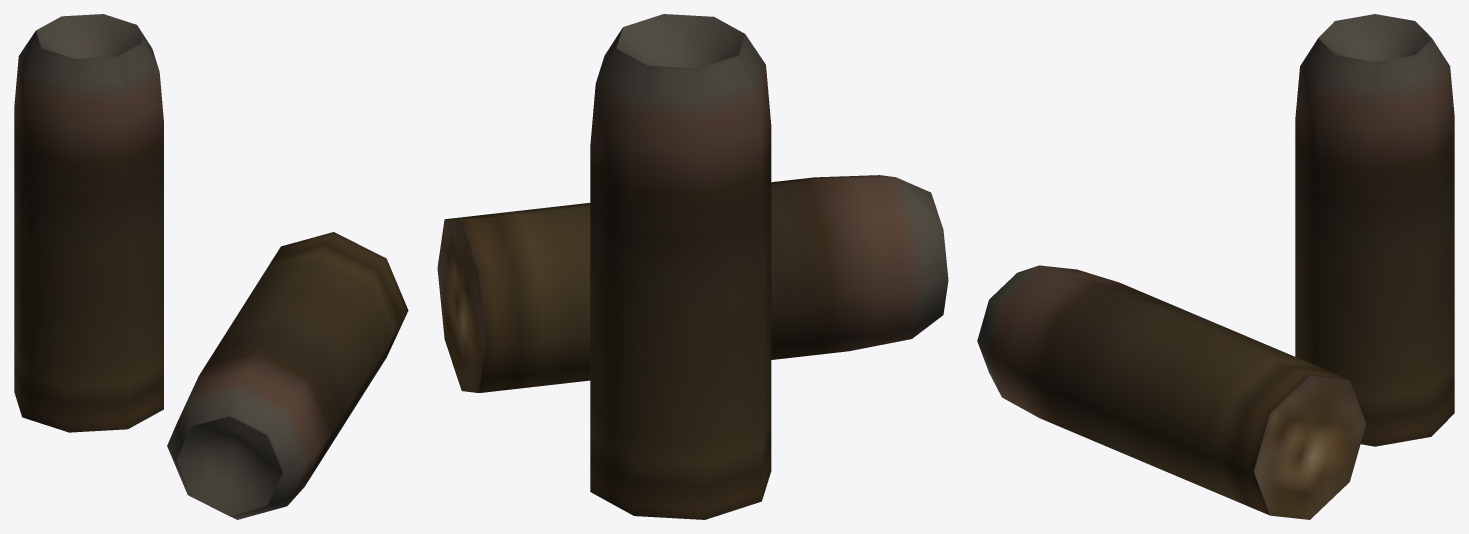
The model's file is ammo_pistol_loose_2pcs_mp_2.fbx.
3 views of the same model, side by side, from view 1: azimuth 30°, elevation 25°; view 2: azimuth 150°, elevation 25°; view 3: azimuth 270°, elevation 25° (orthographic). The views are drawn at different scales.
Visible parts, largest first — view 1: ammo_pistol_loose_2pcs_mp_2; view 2: ammo_pistol_loose_2pcs_mp_2; view 3: ammo_pistol_loose_2pcs_mp_2.
Boxes of the visible parts, <box> form: ammo_pistol_loose_2pcs_mp_2: <box>14,14,408,519</box>; ammo_pistol_loose_2pcs_mp_2: <box>437,14,948,519</box>; ammo_pistol_loose_2pcs_mp_2: <box>977,14,1454,519</box>.
Bounding box in the file's own units: 0.0308 × 0.0327 × 0.0378.
Materials: 1 (1 with a texture image).
